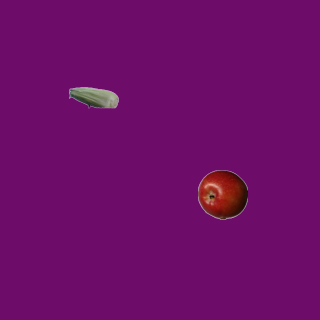Apple Braeburn: (197, 169, 247, 219)
Corn Husk: (68, 72, 118, 122)
